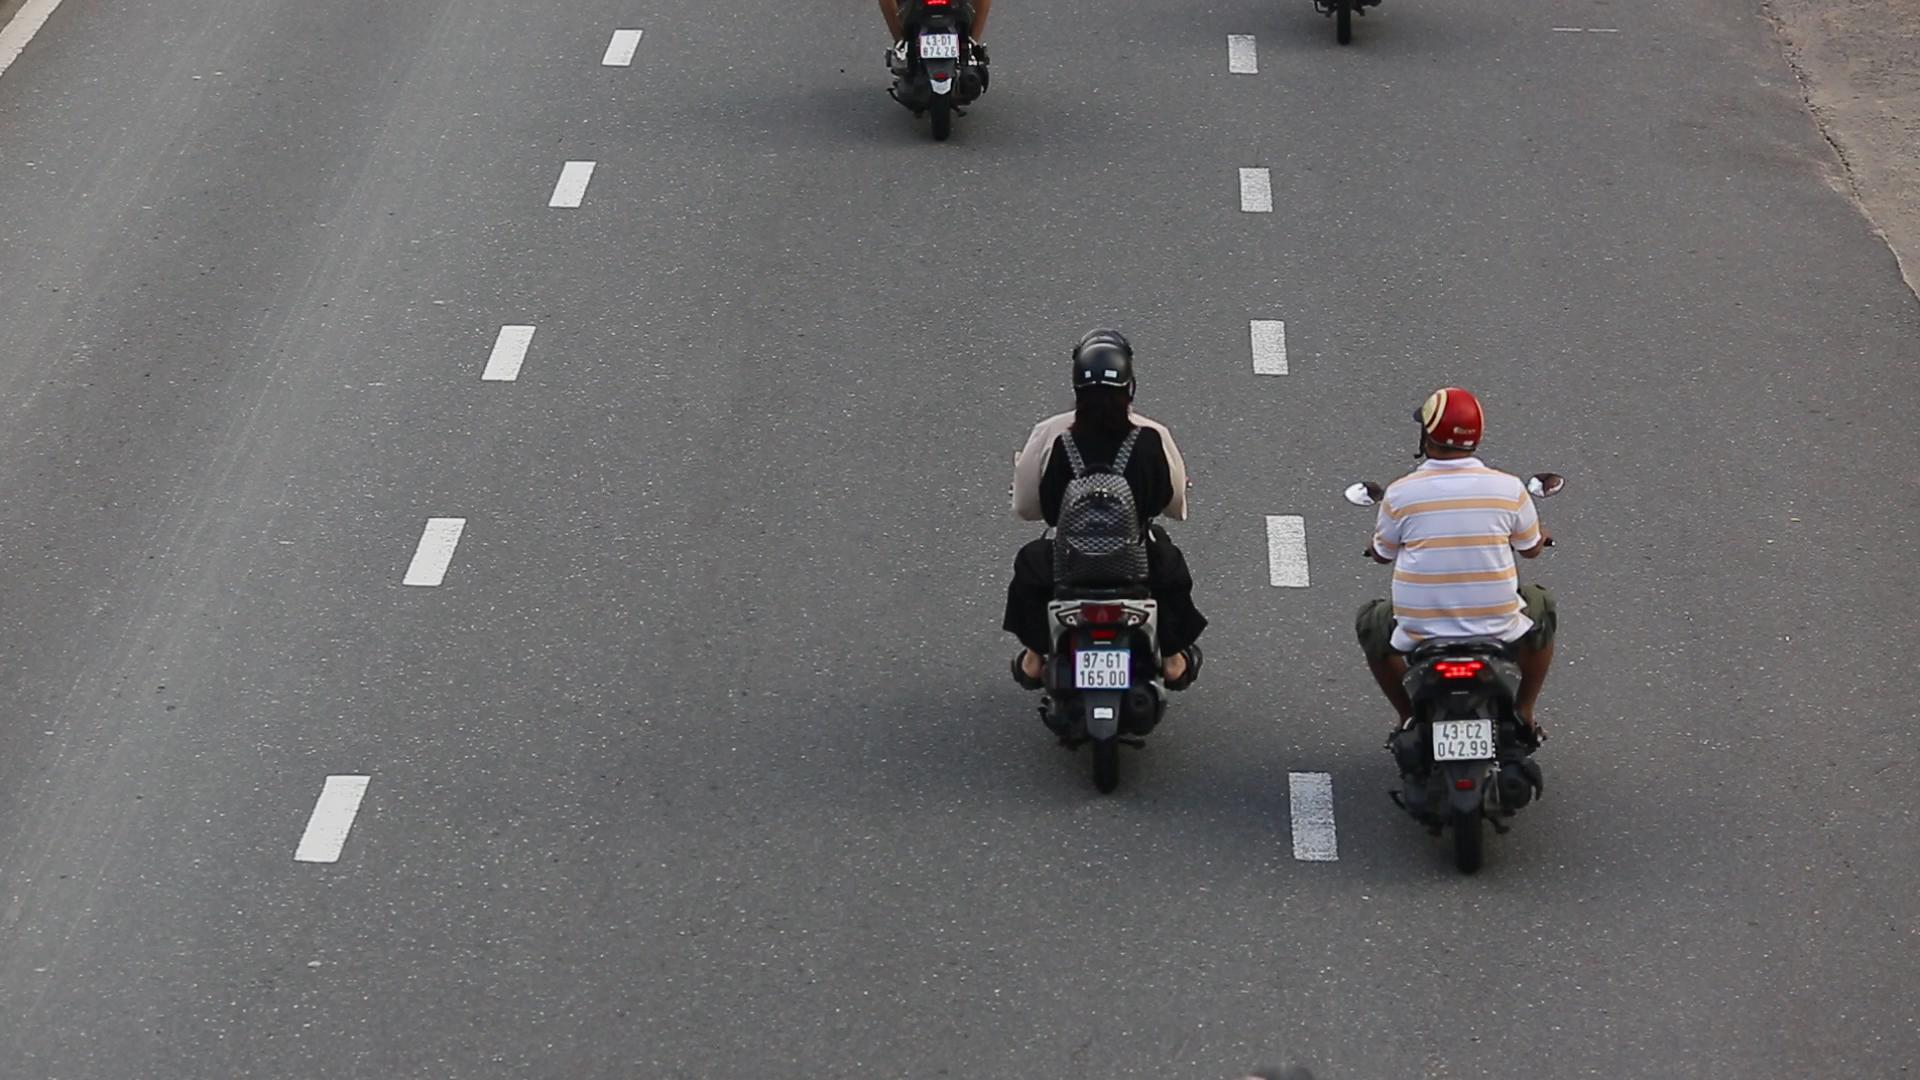motobike: (972, 315, 1240, 800), (1337, 324, 1563, 885)
